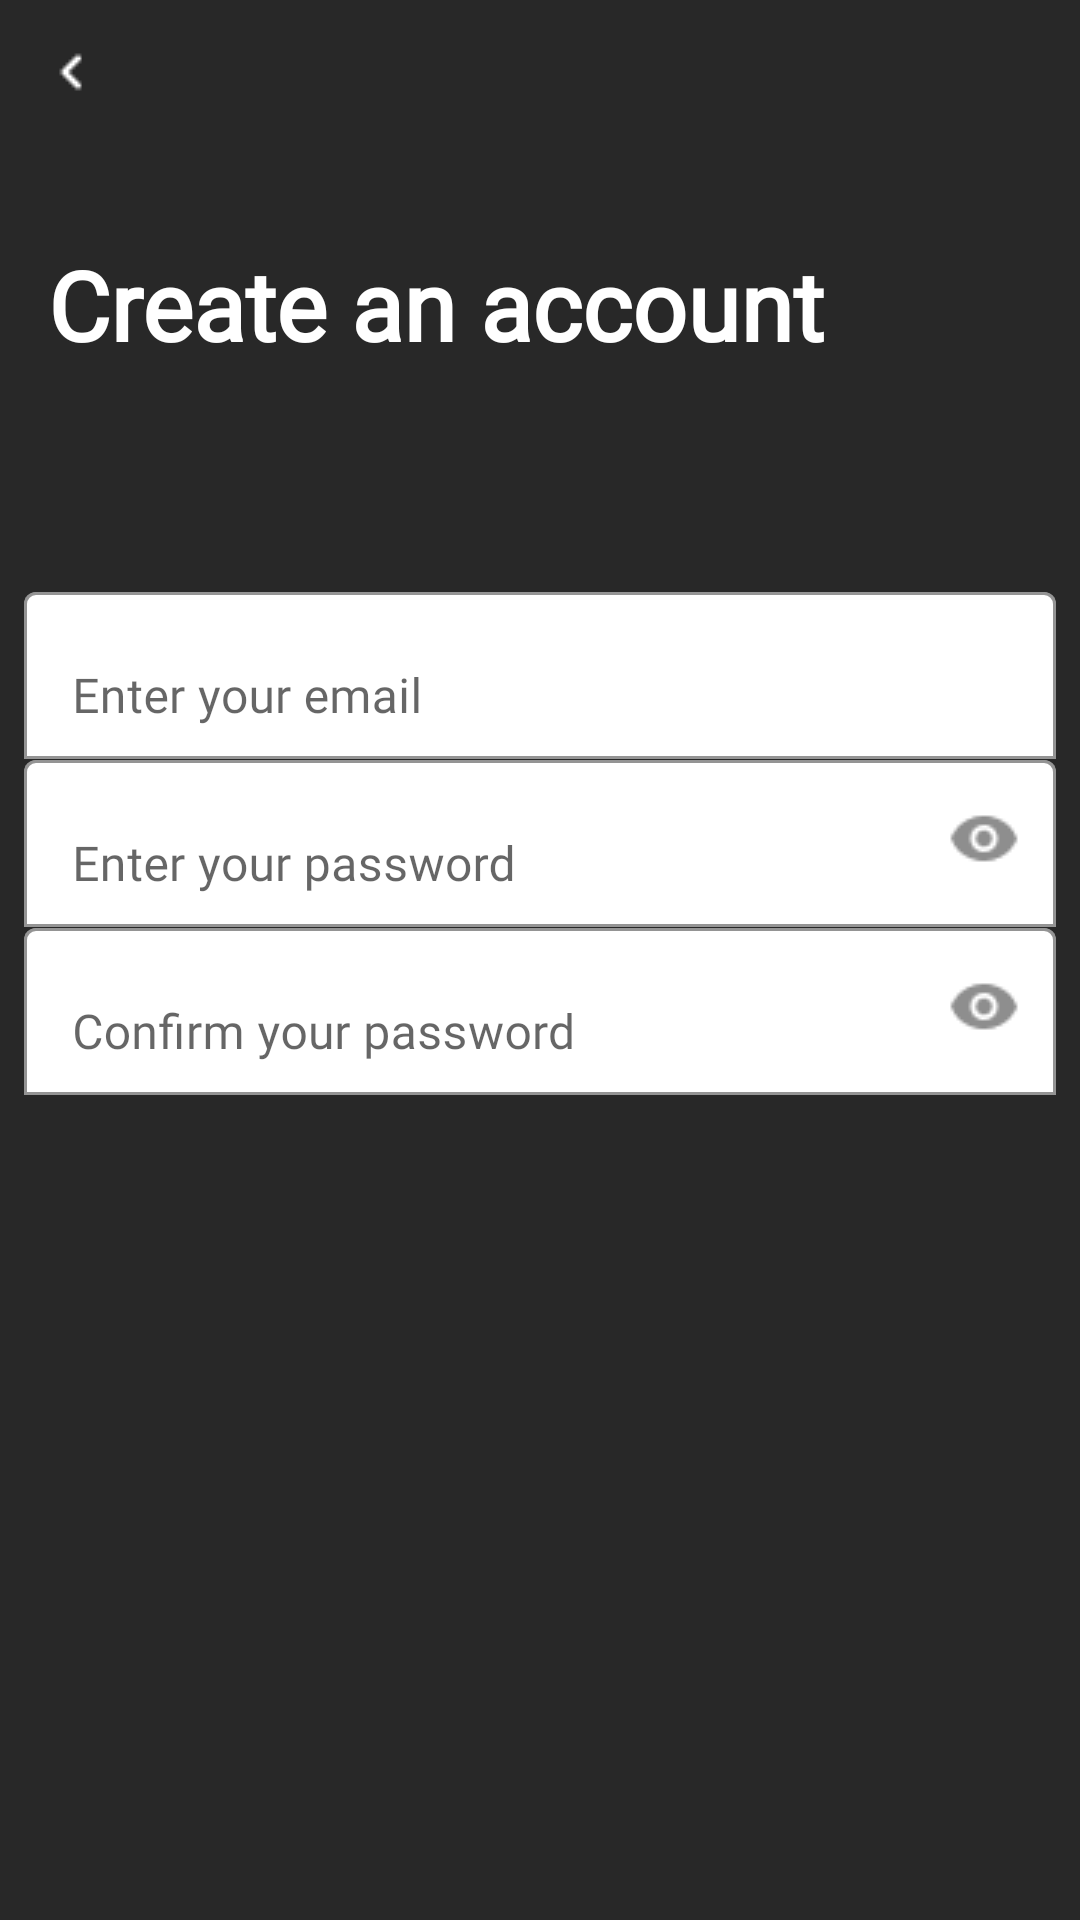

Locate icon controls on the screen. Image size 1080 x 1920, boxes as (x1, y1, x2, y2).
left: (59, 53, 82, 91)
visibility on: (950, 815, 1018, 862), (950, 983, 1018, 1030)
